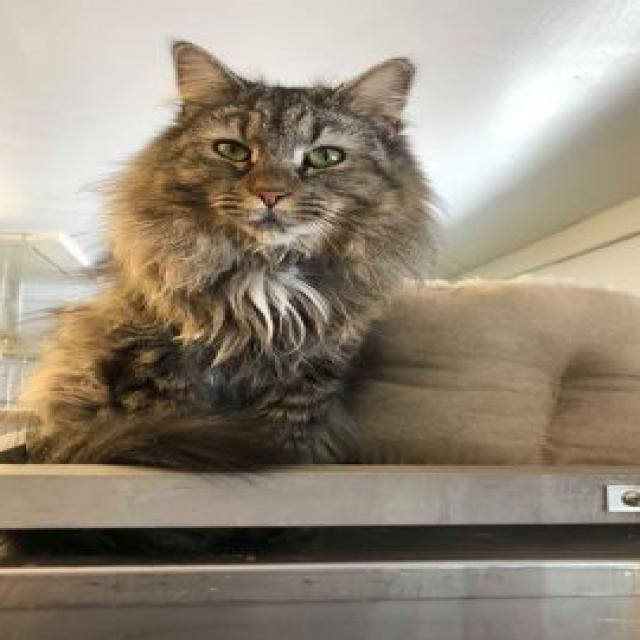Maine Coon: (15, 42, 435, 466)
